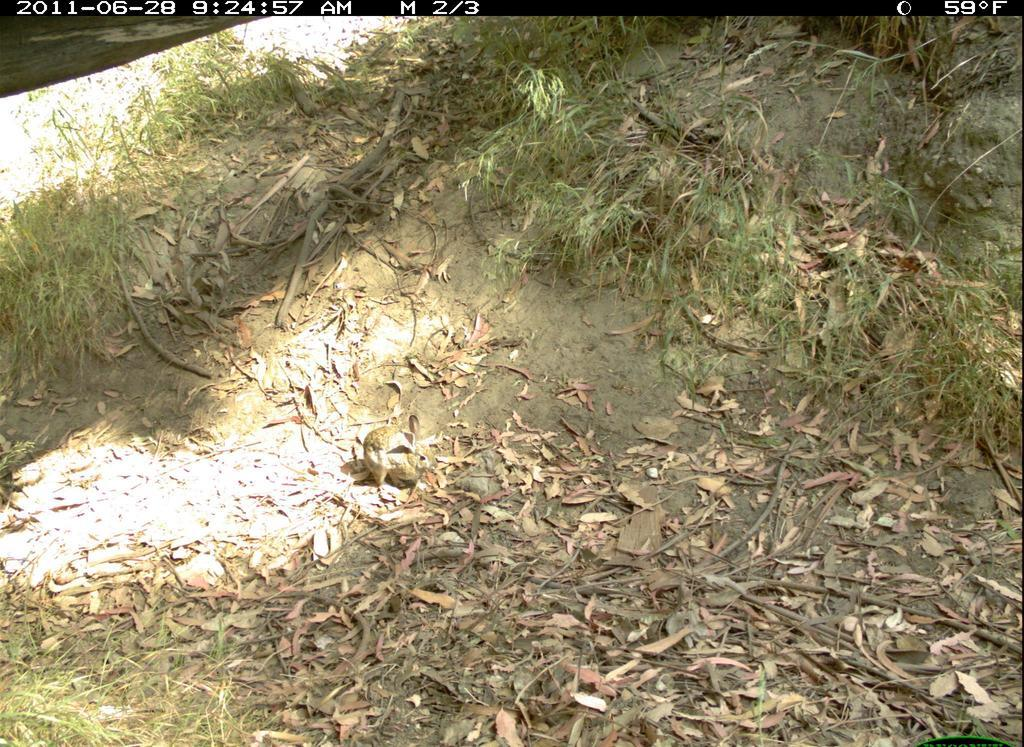rabbit: (360, 419, 447, 506)
